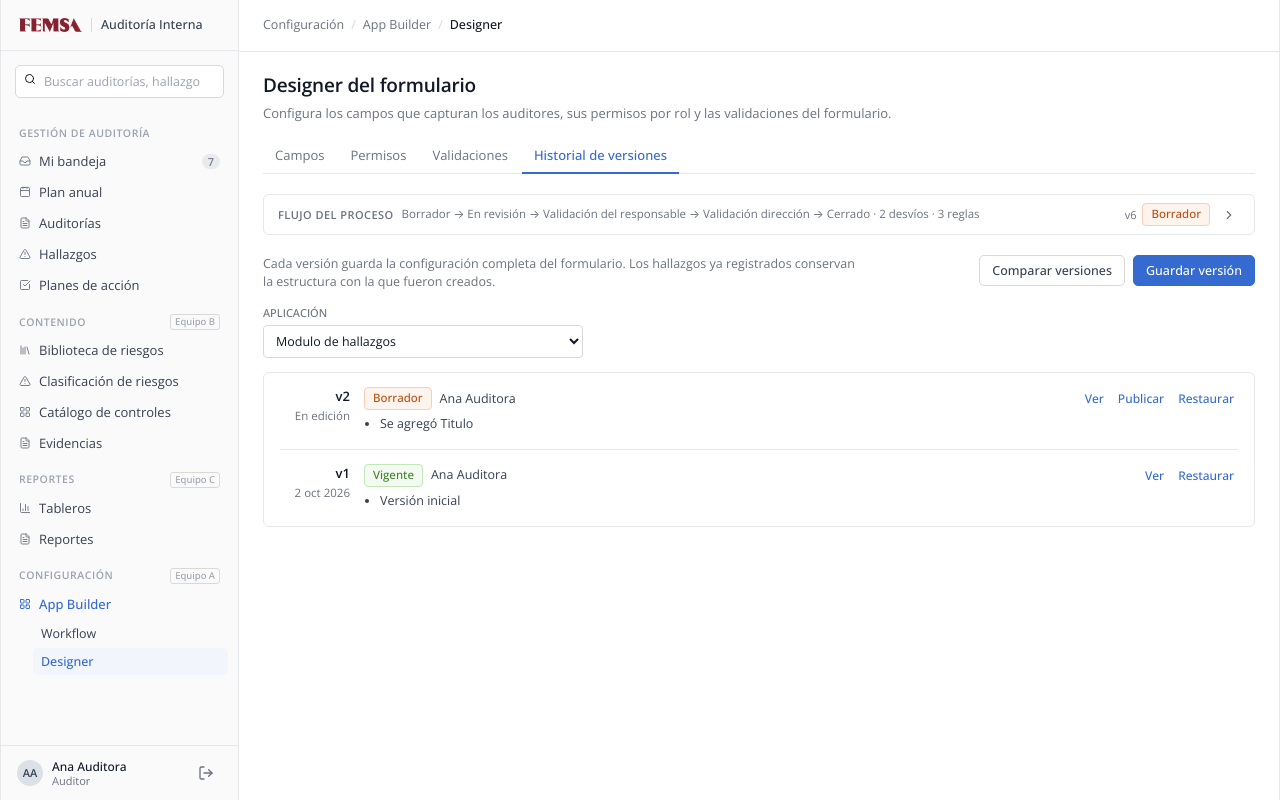
Test case: Historial de versiones (US11) › consulta una versión y restaura su configuración en el Designer
The width and height of the screenshot is (1280, 800).
Click the button "Ver" in the row of "Vigente" at (1155, 476), box [1141, 465, 1168, 486]
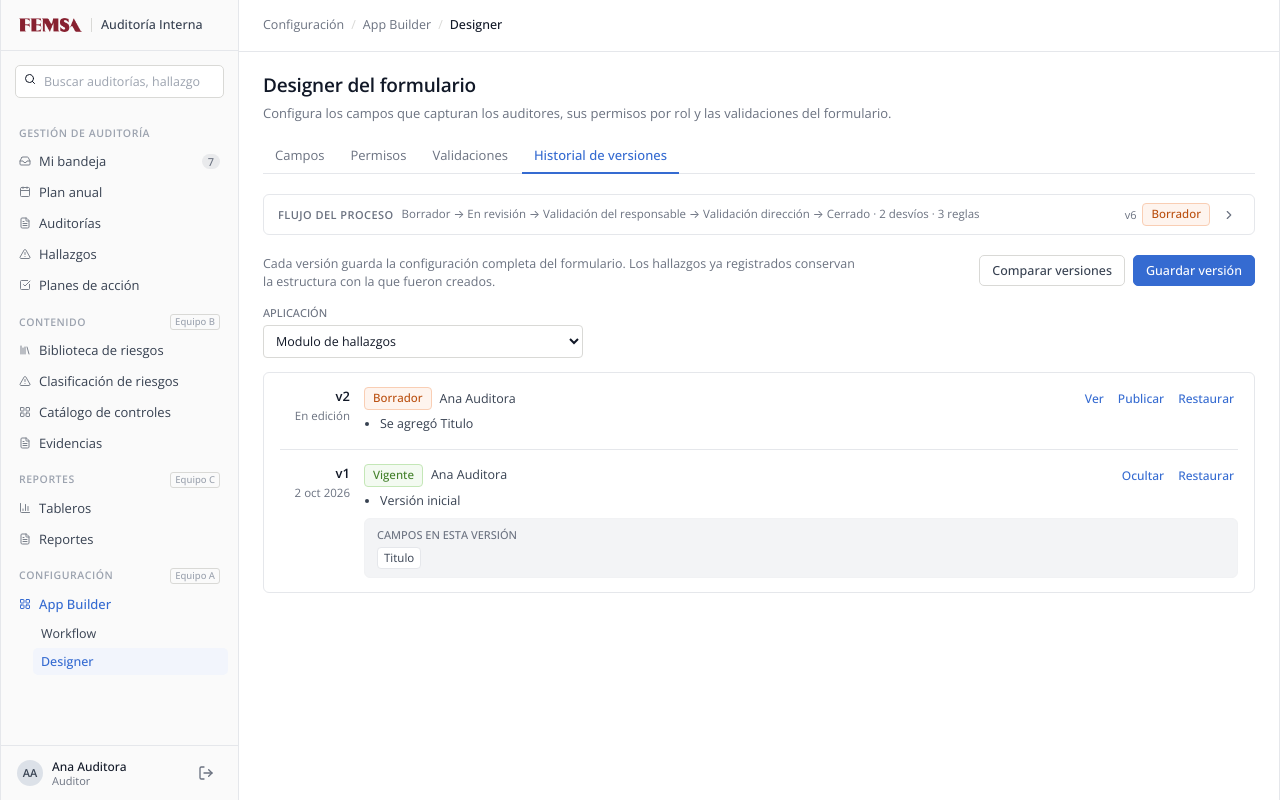
expect the text "Campos en esta versión" is shown: met, box [377, 527, 517, 542]
expect the list item "Titulo" is shown: met, box [377, 547, 421, 570]
Click the button "Restaurar" in the row of "Vigente" at (1206, 476), box [1174, 465, 1238, 486]
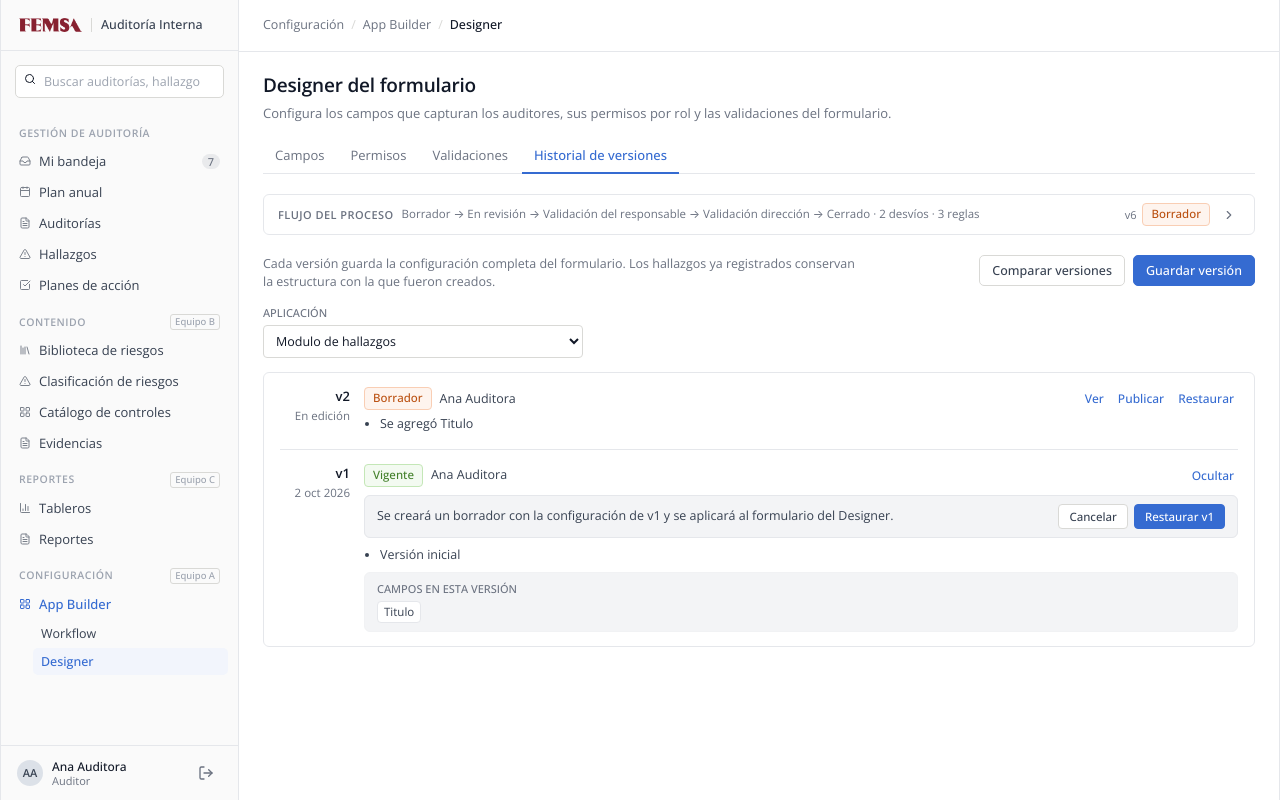
Click the button "Restaurar v1" at (1180, 517), box [1134, 504, 1225, 529]
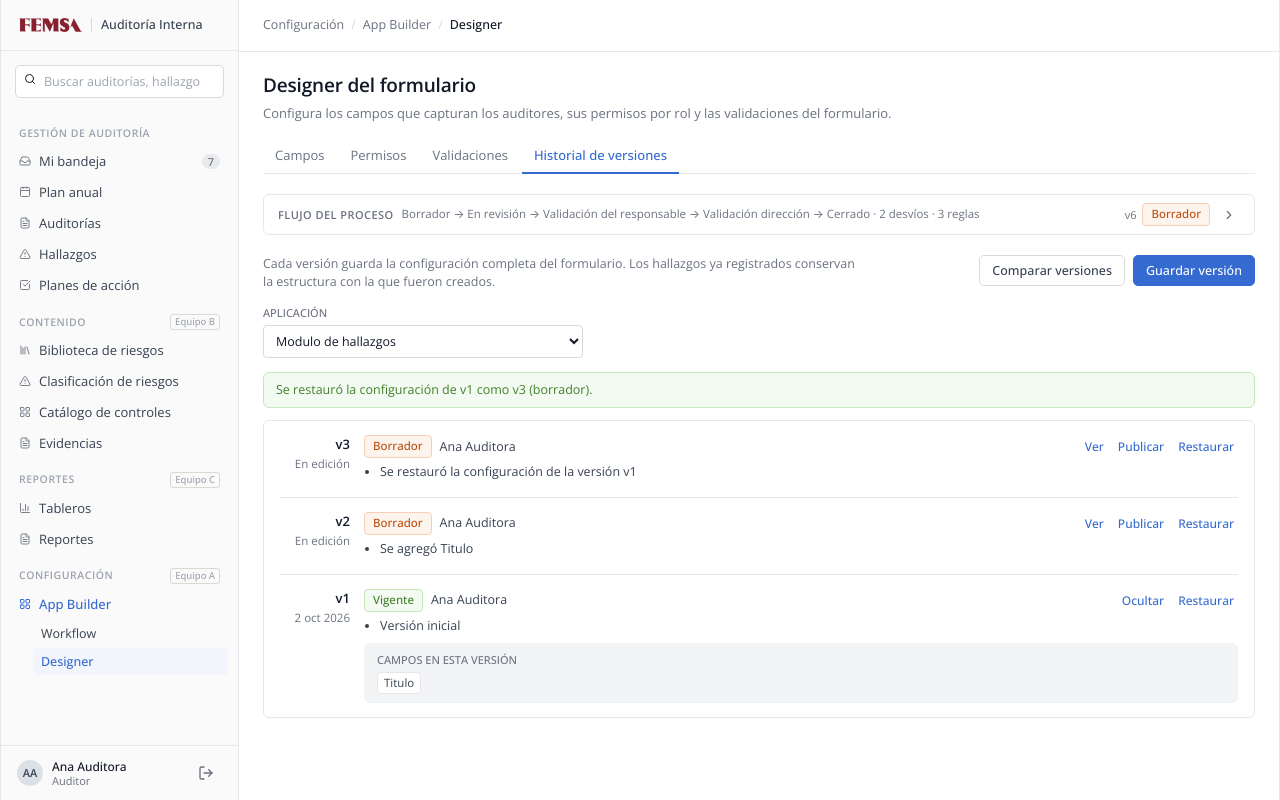
expect the message "Se restauró la configuración de v1 como v3 (borrador)." is shown: met, box [263, 372, 1255, 408]
expect the list item "v3" reads "Se restauró la configuración de la versión v1": met, box [380, 463, 637, 480]
